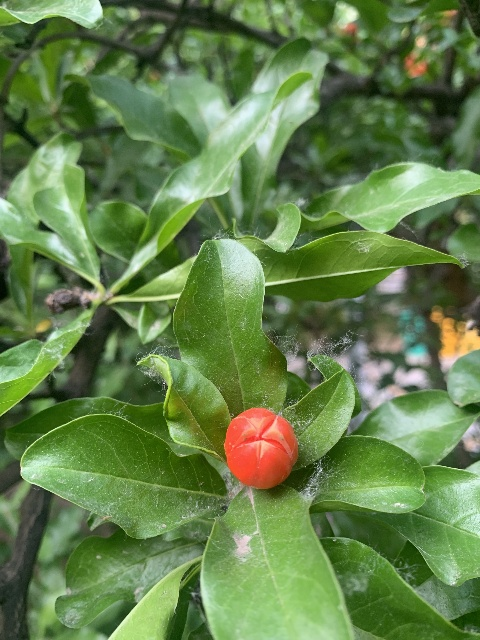bud: (224, 407, 297, 490)
